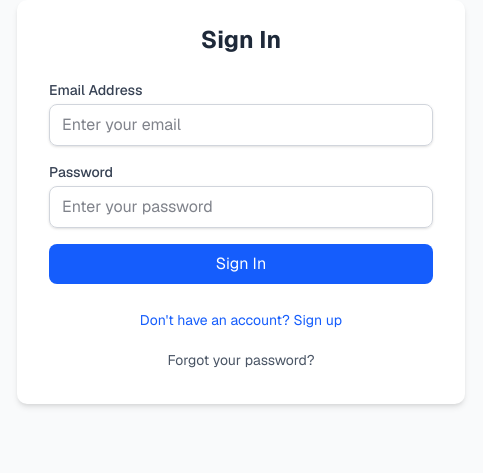
Test case: LoginForm › should validate required fields
The width and height of the screenshot is (483, 473).
What coordinates should you click on to do the following:
click the button "Sign In"
I would click on:
 (241, 264)
Its box is [49,244,433,284].
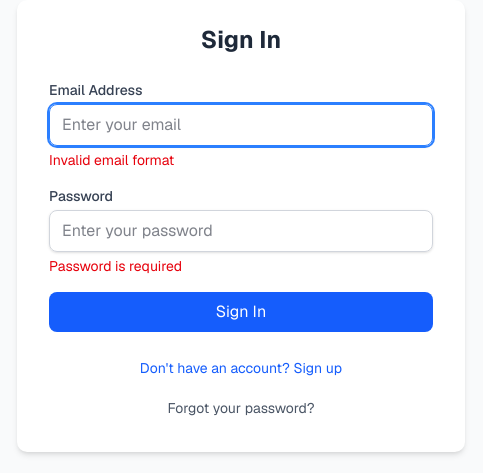
Result: the text "Invalid email format" is shown at [49,151,174,169]
Result: the text "Password is required" is shown at [49,257,182,275]
